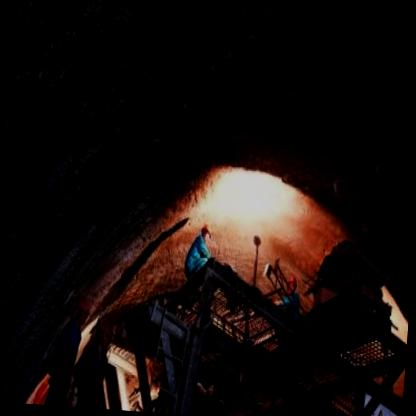helmet: (76, 294, 94, 326), (98, 318, 115, 349), (200, 222, 214, 247), (286, 270, 298, 299)
